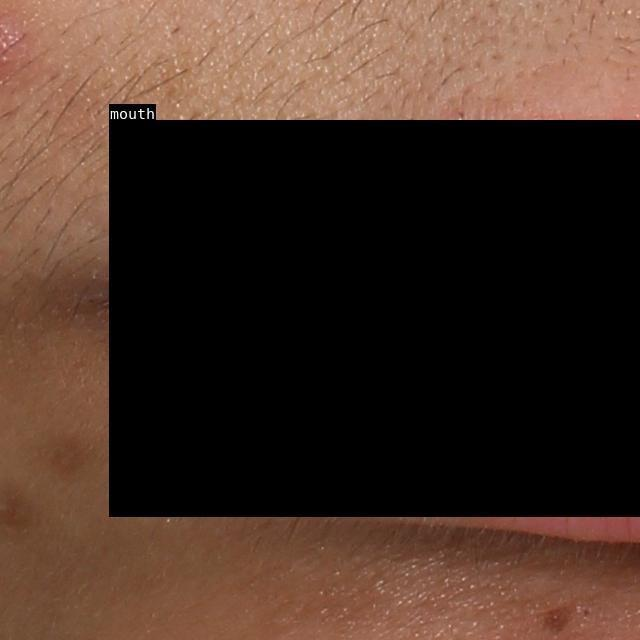comedo: (578, 604, 593, 621)
